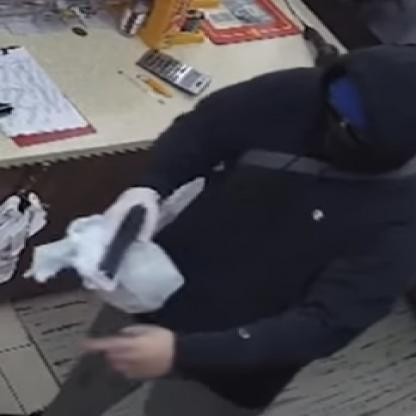criminal: (29, 44, 416, 416)
weapon: (97, 201, 149, 282)
